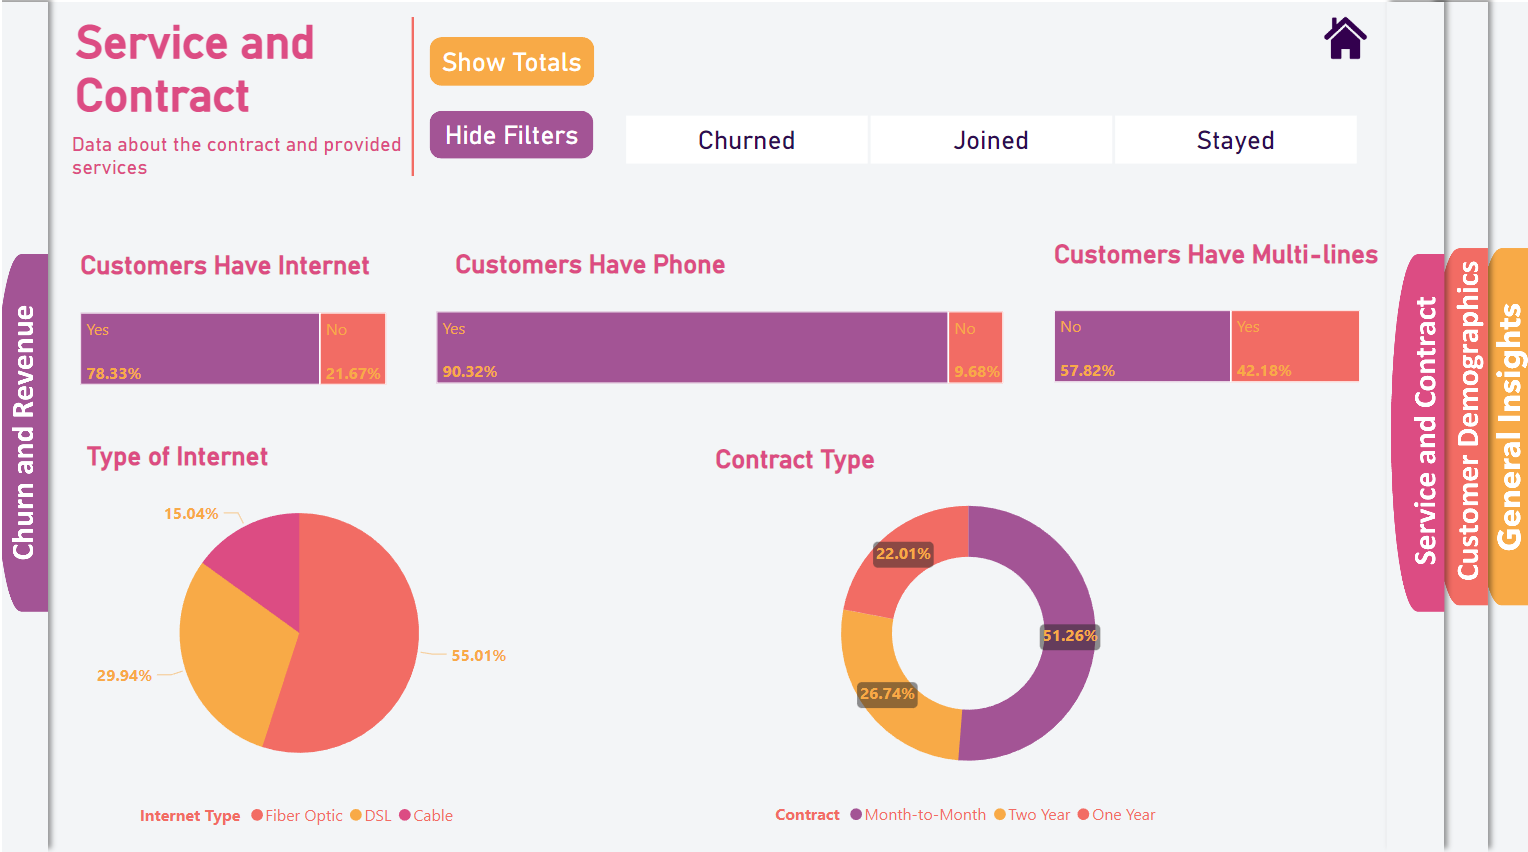

Layout of this report page (visuals, bound fields, positions):
{"tool":"powerbi","page":{"name":"Service and Contract","canvas":[1280,720],"ordinal":3},"visuals":[{"type":"image","box":[0,0,1279.7,720.1],"z":0},{"type":"image","box":[1088.5,7.1,65.7,61.4],"z":0,"group":"g13"},{"type":"textbox","box":[55.9,15.1,284.9,109.9],"z":0,"group":"g7"},{"type":"group","id":"g1","title":"Group 2","box":[873.4,201,282,59.3],"z":0,"group":"g8"},{"type":"textbox","box":[873.4,201,282,59.3],"z":0,"group":"g1"},{"type":"group","id":"g2","title":"Group 2","box":[373.7,209.7,467.1,52.1],"z":0,"group":"g6"},{"type":"textbox","box":[373.7,209.7,467.1,52.1],"z":0,"group":"g2"},{"type":"group","id":"g3","title":"Group 2","box":[60.7,211.1,255.9,52.1],"z":0,"group":"g9"},{"type":"textbox","box":[60.7,211.1,255.9,52.1],"z":0,"group":"g3"},{"type":"treemap","fields":{"Values":["CountNonNull(Telco_Churn_fact.CustomerID)"],"Group":["Services_Dim.Phone Service"]},"box":[357.9,261.8,483,69.4],"z":0,"group":"g10"},{"type":"group","id":"g4","title":"Group 2","box":[66.4,370.1,255.9,52.1],"z":0,"group":"g12"},{"type":"textbox","box":[66.4,370.1,255.9,52.1],"z":0,"group":"g4"},{"type":"group","id":"g5","title":"Group 2","box":[589.4,372,256.6,52.4],"z":0,"group":"g11"},{"type":"textbox","box":[589.4,372,256.6,52.4],"z":0,"group":"g5"},{"type":"actionButton","box":[1087.1,18.5,67.1,40],"z":1000,"group":"g13"},{"type":"shape","title":"Show Totals","box":[357.2,37.6,137.4,40.5],"z":1000},{"type":"textbox","box":[53,111.8,308,52.1],"z":1000,"group":"g7"},{"type":"group","id":"g6","title":"Group 5","box":[373.7,209.7,467.1,52.1],"z":1000,"group":"g10"},{"type":"treemap","fields":{"Values":["CountNonNull(Telco_Churn_fact.CustomerID)"],"Group":["Services_Dim.Multiple Lines"]},"box":[873.9,260.5,264.6,69.4],"z":1000,"group":"g8"},{"type":"treemap","fields":{"Group":["Services_Dim.Internet Service"],"Values":["CountNonNull(Telco_Churn_fact.CustomerID)"]},"box":[60.7,263.2,264.6,69.4],"z":1000,"group":"g9"},{"type":"pieChart","fields":{"Y":["Count(Telco_Churn_fact.CustomerID)"],"Category":["Services_Dim.Internet Type"]},"box":[50.3,392.7,396.3,312.5],"z":1000,"group":"g12"},{"type":"donutChart","fields":{"Category":["Services_Dim.Contract"],"Y":["Count(Telco_Churn_fact.CustomerID)"]},"box":[457.4,394.2,697,310.9],"z":1000,"group":"g11"},{"type":"shape","box":[324.8,20.7,36.4,133],"z":2000},{"type":"group","id":"g7","title":"Group 1","box":[53,15.1,308,148.8],"z":9000},{"type":"group","id":"g8","title":"Group 5","box":[873.4,201,282,128.7],"z":10000},{"type":"group","id":"g9","title":"Group 5","box":[60.7,211.1,264.6,121.5],"z":11000},{"type":"group","id":"g10","title":"Group 3","box":[357.9,209.7,483,121.5],"z":12000},{"type":"group","id":"g11","title":"Group 5","box":[457.4,372,697,333.1],"z":13000},{"type":"group","id":"g12","title":"Group 5","box":[50.3,370.1,396.3,335.1],"z":14000},{"type":"actionButton","box":[1239.5,209.5,40.2,286.3],"z":15000},{"type":"actionButton","box":[1199.4,216.5,40.2,286.3],"z":16000},{"type":"actionButton","box":[0,228.7,40.2,286.3],"z":17000},{"type":"group","id":"g13","title":"Group 5","box":[1087.1,7.1,67.1,61.4],"z":18000},{"type":"slicer","fields":{"Values":["Status_Dim.Customer Status"]},"box":[494.3,95.7,660,48.6],"z":19000},{"type":"shape","title":"Hide Filters","box":[357.1,98.6,137.1,40],"z":20000}]}

Visuals, with their boxes in screenshot pixels (x1, y1, x2, y2), scaled from the page's 1280x720 canvas onto the 1528x852 screenshot:
image: locate(0, 0, 1527, 851)
image: locate(1299, 8, 1378, 81)
textbox: locate(67, 18, 407, 148)
"Group 2" group: locate(1043, 238, 1379, 308)
textbox: locate(1043, 238, 1379, 308)
"Group 2" group: locate(446, 248, 1004, 310)
textbox: locate(446, 248, 1004, 310)
"Group 2" group: locate(72, 250, 378, 311)
textbox: locate(72, 250, 378, 311)
treemap - CountNonNull(Telco_Churn_fact.CustomerID) x Services_Dim.Phone Service: locate(427, 310, 1004, 392)
"Group 2" group: locate(79, 438, 385, 500)
textbox: locate(79, 438, 385, 500)
"Group 2" group: locate(704, 440, 1010, 502)
textbox: locate(704, 440, 1010, 502)
actionButton: locate(1298, 22, 1378, 69)
"Show Totals" shape: locate(426, 44, 590, 92)
textbox: locate(63, 132, 431, 194)
"Group 5" group: locate(446, 248, 1004, 310)
treemap - CountNonNull(Telco_Churn_fact.CustomerID) x Services_Dim.Multiple Lines: locate(1043, 308, 1359, 390)
treemap - Services_Dim.Internet Service x CountNonNull(Telco_Churn_fact.CustomerID): locate(72, 311, 388, 394)
pieChart - Count(Telco_Churn_fact.CustomerID) x Services_Dim.Internet Type: locate(60, 465, 533, 834)
donutChart - Services_Dim.Contract x Count(Telco_Churn_fact.CustomerID): locate(546, 466, 1378, 834)
shape: locate(388, 24, 431, 182)
"Group 1" group: locate(63, 18, 431, 194)
"Group 5" group: locate(1043, 238, 1379, 390)
"Group 5" group: locate(72, 250, 388, 394)
"Group 3" group: locate(427, 248, 1004, 392)
"Group 5" group: locate(546, 440, 1378, 834)
"Group 5" group: locate(60, 438, 533, 834)
actionButton: locate(1480, 248, 1527, 587)
actionButton: locate(1432, 256, 1480, 595)
actionButton: locate(0, 271, 48, 609)
"Group 5" group: locate(1298, 8, 1378, 81)
slicer - Status_Dim.Customer Status: locate(590, 113, 1378, 171)
"Hide Filters" shape: locate(426, 117, 590, 164)
